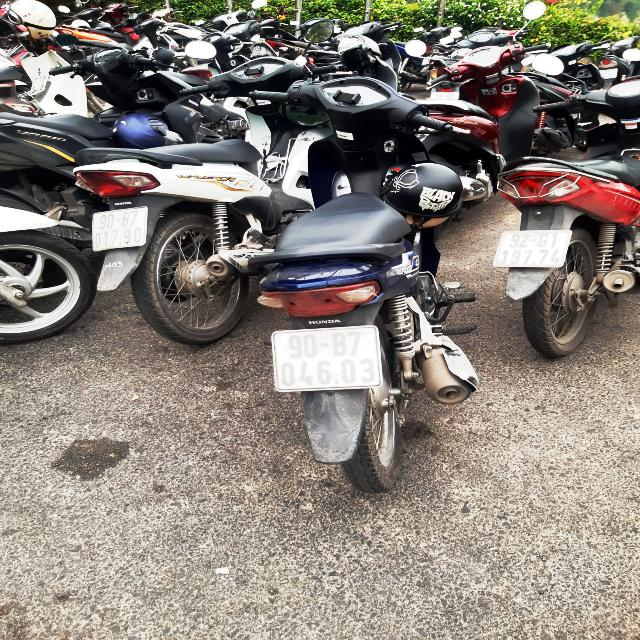license_plate: (268, 324, 387, 396), (87, 204, 154, 258), (491, 229, 578, 270)
